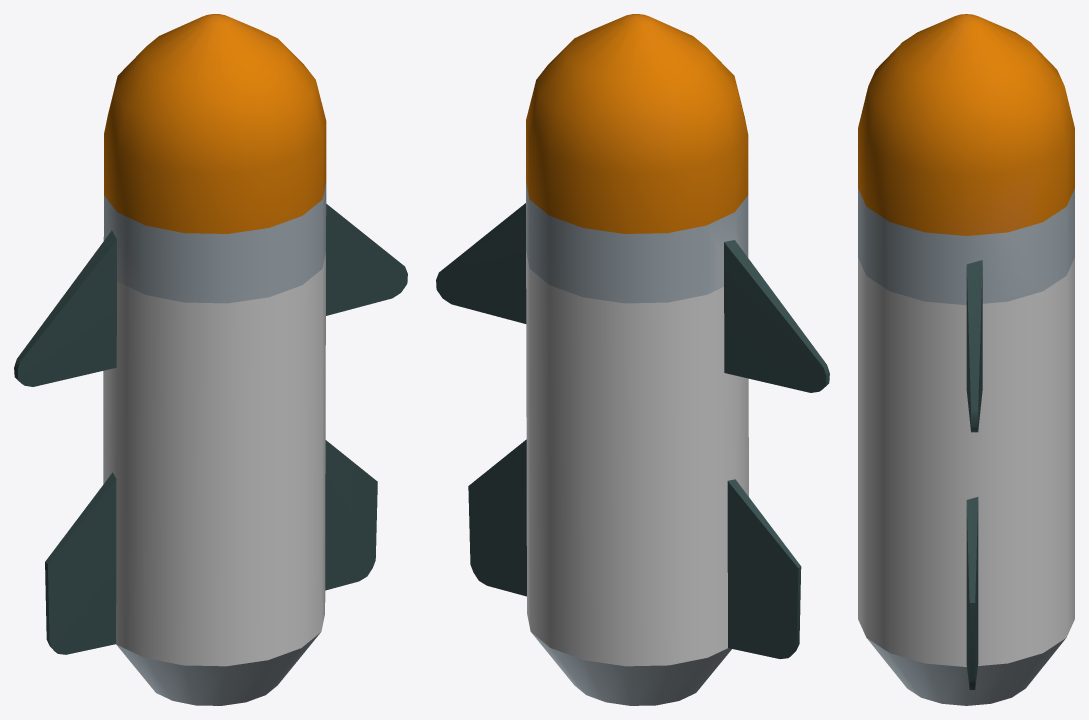
File: MisselPequeno.fbx
3 renders of one model, left to right at view 1: azimuth 30°, elevation 25°; view 2: azimuth 150°, elevation 25°; view 3: azimuth 270°, elevation 25°, orthographic.
Parts seen in each view (by area): view 1: MisselPequeno; view 2: MisselPequeno; view 3: MisselPequeno.
Part boxes in pixels (<box>): MisselPequeno: <box>14,14,407,705</box>; MisselPequeno: <box>436,14,829,705</box>; MisselPequeno: <box>858,14,1074,705</box>.
Bounding box in the file's own units: 333 × 540 × 160.
